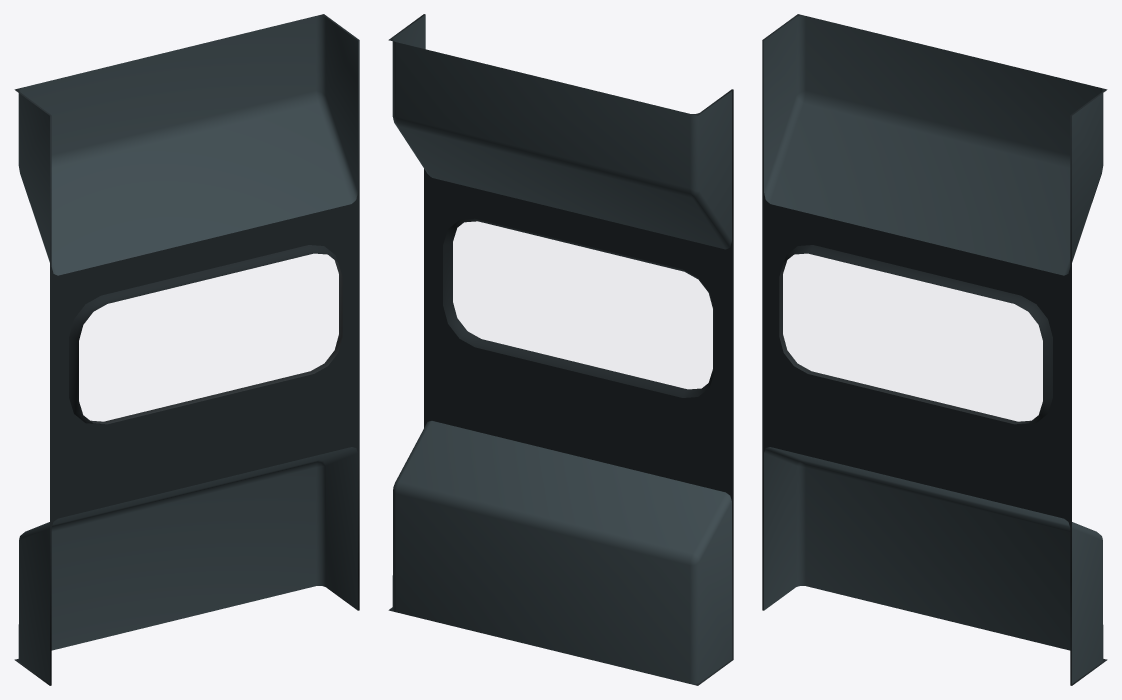
File: wallSmall02.fbx
3 renders of one model, left to right at view 1: azimuth 30°, elevation 25°; view 2: azimuth 150°, elevation 25°; view 3: azimuth 330°, elevation 25°, orthographic.
Visible parts, largest first — view 1: wallSmall02; view 2: wallSmall02; view 3: wallSmall02.
Boxes of the visible parts, left/top/right/bottom form: wallSmall02: left=14, top=14, right=359, bottom=685; wallSmall02: left=388, top=14, right=733, bottom=685; wallSmall02: left=762, top=14, right=1107, bottom=685.
Bounding box in the file's own units: 2 × 0.4664 × 3.52.
